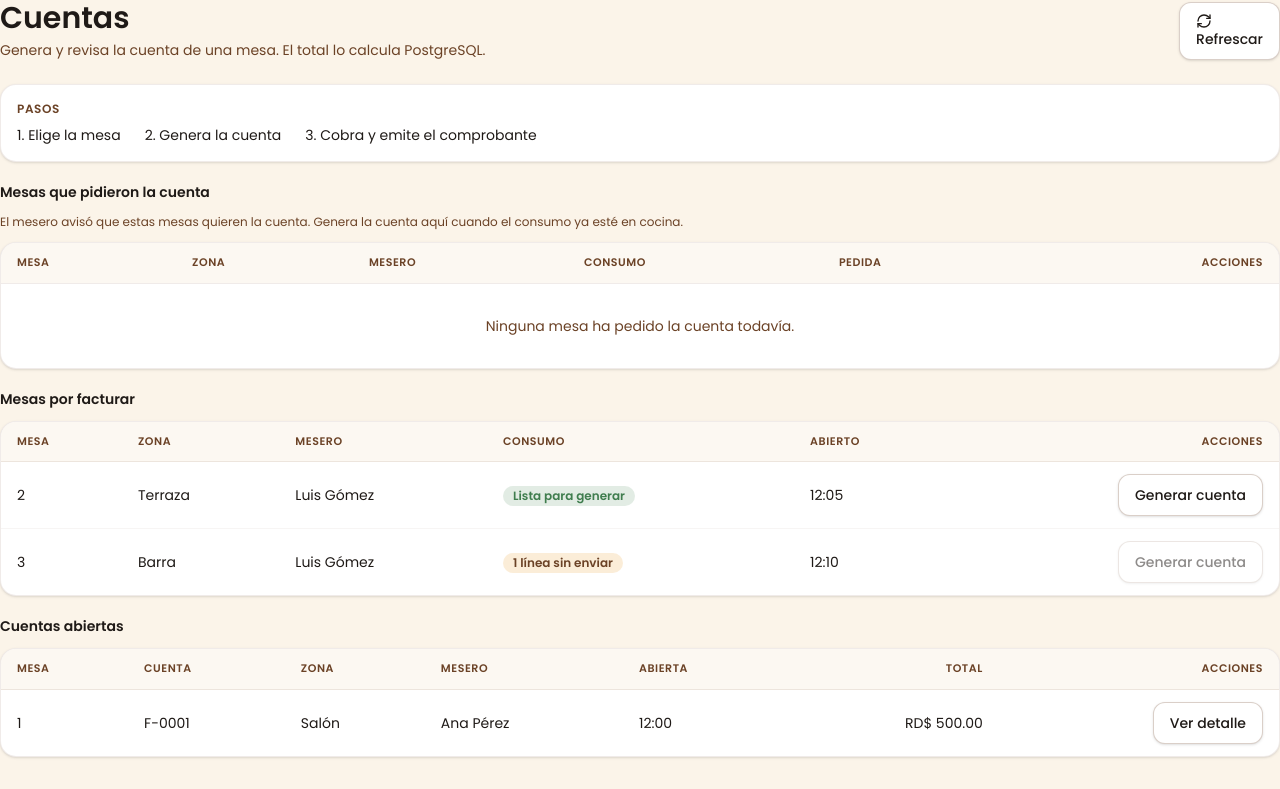
Test: Cuentas - detalle › si la cuenta ya no existe, lo explica y no muestra un detalle inventado
The image size is (1280, 789).
Step 1. Click the button with aria-label "Ver el detalle de la cuenta de la mesa 1" → (1208,723), box x1=1153 y1=702 x2=1263 y2=744
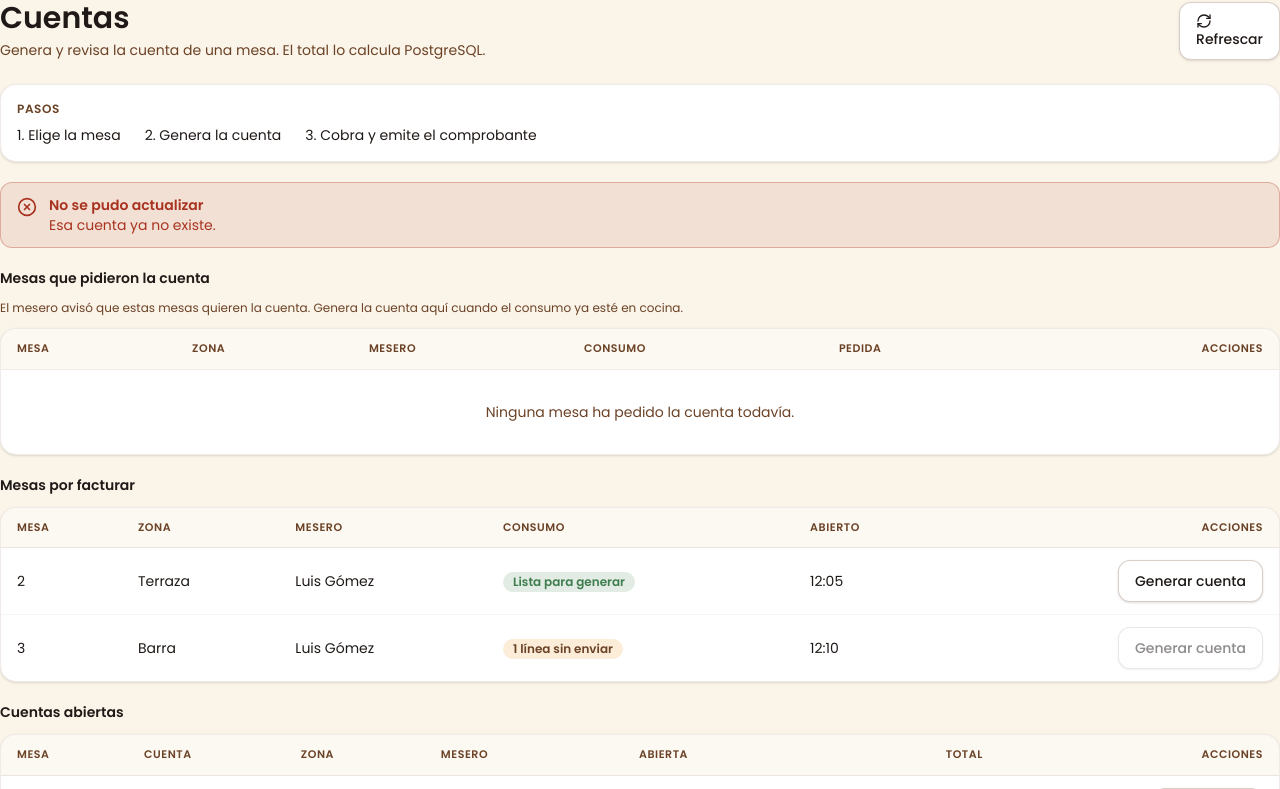
Expected: the text "Esa cuenta ya no existe." is shown, x1=49 y1=215 x2=216 y2=235
